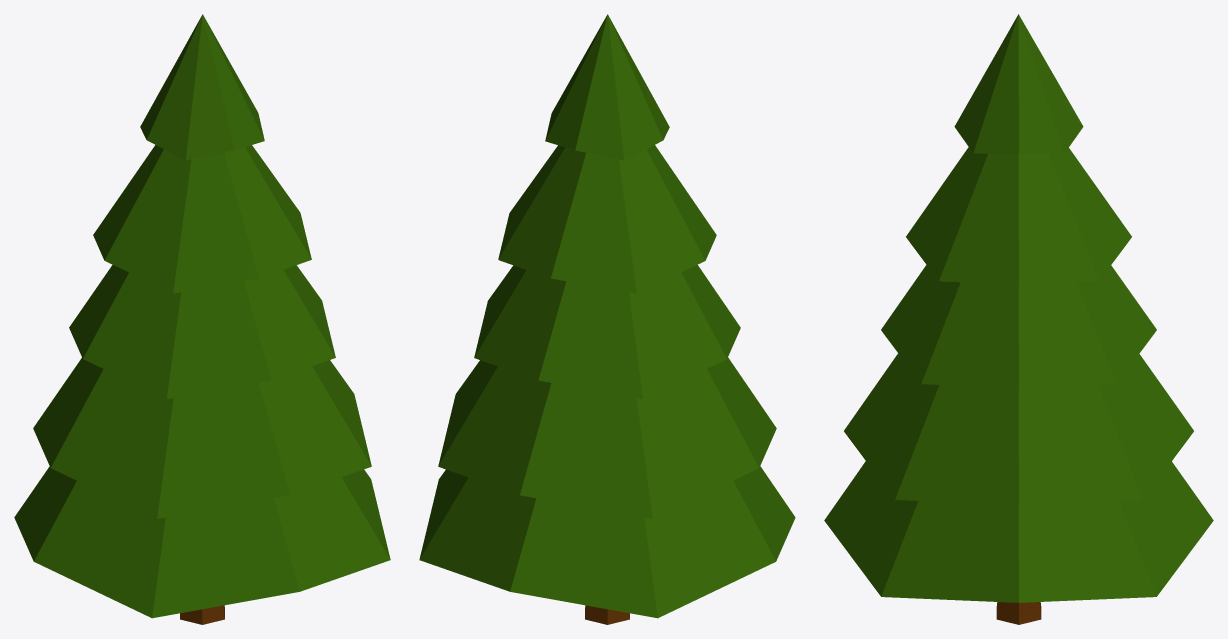
Rendered from Tree_Conifer.dae.
3 views of the same model, side by side, from view 1: azimuth 30°, elevation 25°; view 2: azimuth 150°, elevation 25°; view 3: azimuth 270°, elevation 25° (orthographic).
Parts seen in each view (by area): view 1: group_4, group_6, group_5, group_2, group_3, group_0; view 2: group_4, group_6, group_5, group_2, group_3, group_0; view 3: group_4, group_6, group_5, group_2, group_3, group_0.
Boxes of the visible parts, left/top/right/bottom form: group_4: left=33, top=358, right=371, bottom=518; group_6: left=14, top=466, right=390, bottom=618; group_5: left=69, top=264, right=335, bottom=398; group_2: left=93, top=145, right=311, bottom=293; group_3: left=140, top=14, right=264, bottom=160; group_0: left=180, top=605, right=224, bottom=624; group_4: left=438, top=357, right=776, bottom=518; group_6: left=419, top=466, right=795, bottom=618; group_5: left=474, top=265, right=740, bottom=399; group_2: left=498, top=145, right=716, bottom=293; group_3: left=545, top=14, right=669, bottom=160; group_0: left=585, top=605, right=629, bottom=624; group_4: left=844, top=353, right=1193, bottom=505; group_6: left=824, top=461, right=1213, bottom=602; group_5: left=881, top=265, right=1156, bottom=388; group_2: left=906, top=147, right=1131, bottom=284; group_3: left=954, top=14, right=1083, bottom=153; group_0: left=996, top=602, right=1041, bottom=624.
Size of the model in its own units: 236 by 236 by 401.
